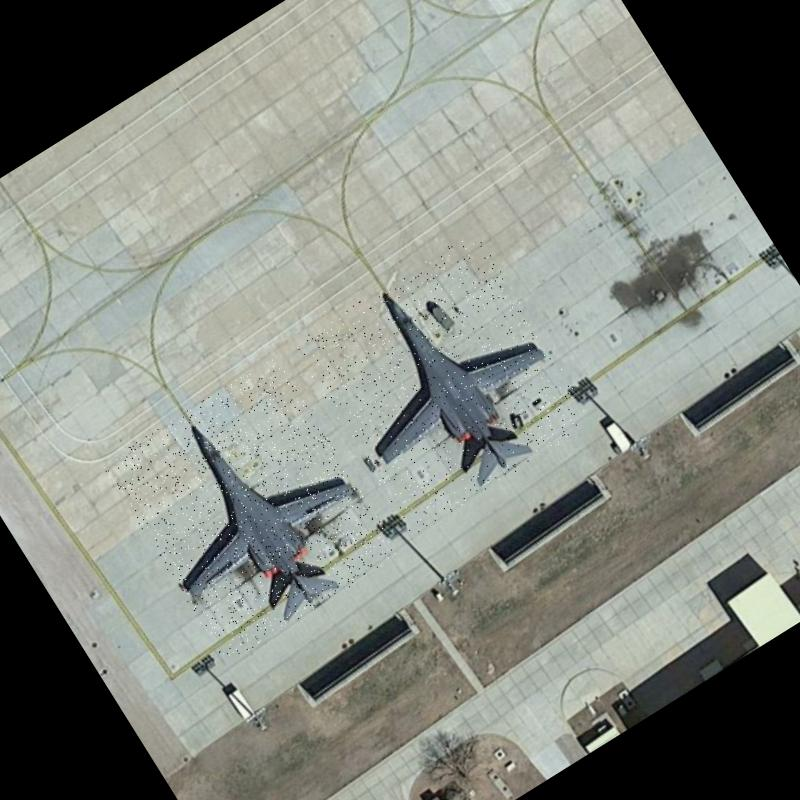A10: (292, 230, 595, 536), (102, 355, 402, 664)
